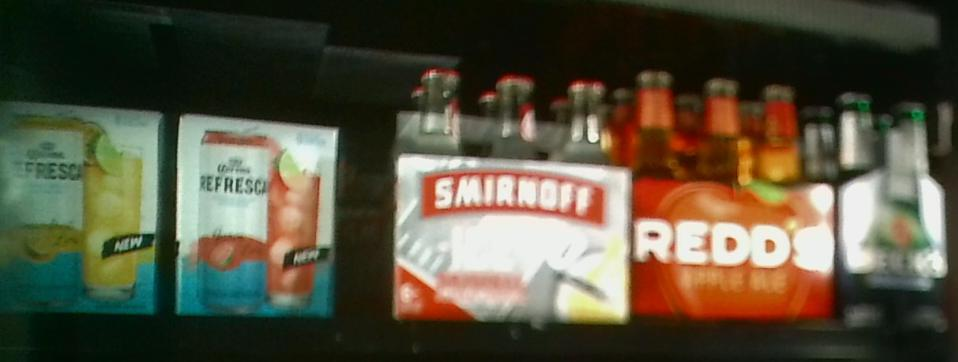bottle: (391, 65, 631, 326), (629, 64, 836, 321), (178, 112, 339, 317), (1, 104, 156, 315), (837, 92, 948, 327)
